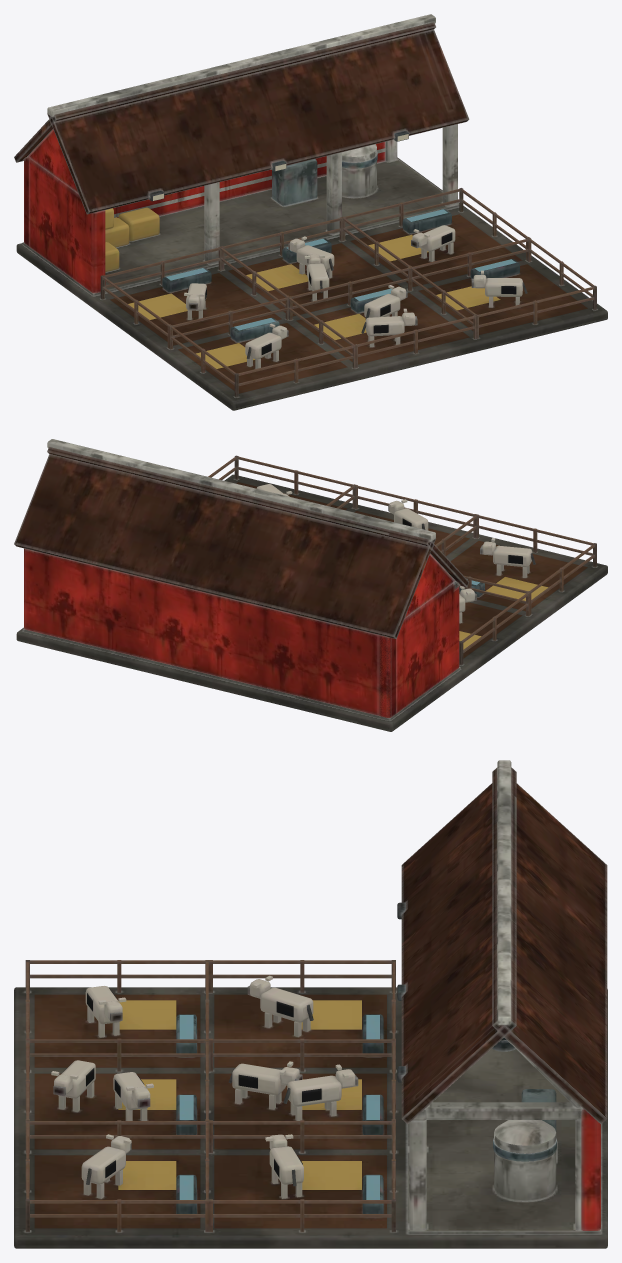
File: cattle_farm.glb
3 views of the same model, one above another, from view 1: azimuth 30°, elevation 25°; view 2: azimuth 150°, elevation 25°; view 3: azimuth 270°, elevation 25° (orthographic). The views are drawn at different scales.
Visible parts, largest first — view 1: te_cattle_farm; view 2: te_cattle_farm; view 3: te_cattle_farm.
Part boxes in pixels (x1,y1,x2,y2): te_cattle_farm: (14,14,607,410); te_cattle_farm: (14,439,607,731); te_cattle_farm: (14,760,607,1248).
Size of the model in its own units: 1.76 by 0.755 by 1.72.
1 material, 1 textured.
